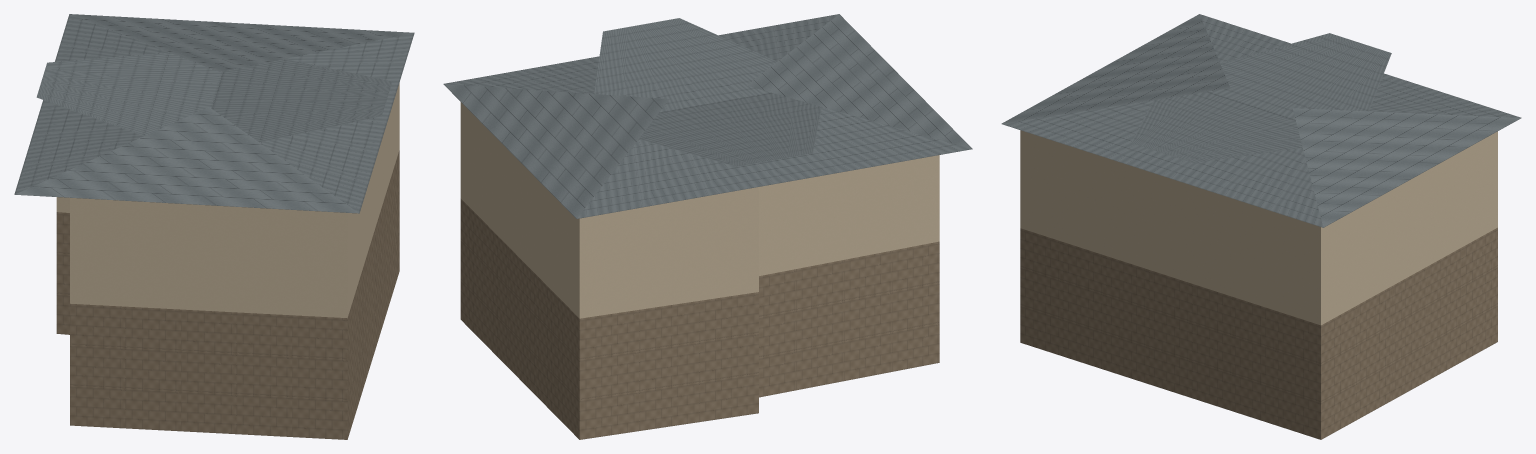
File: bld_c11_10_503.gltf
3 renders of one model, left to right at view 1: azimuth 30°, elevation 25°; view 2: azimuth 150°, elevation 25°; view 3: azimuth 270°, elevation 25°, orthographic. The views are drawn at different scales.
Parts seen in each view (by area): view 1: bld_c11_10_503; view 2: bld_c11_10_503; view 3: bld_c11_10_503.
Boxes of the visible parts, x1,y1,x2,y2 form: bld_c11_10_503: (14, 14, 414, 439); bld_c11_10_503: (443, 14, 972, 439); bld_c11_10_503: (1001, 14, 1521, 439).
Bounding box in the file's own units: 20.06 × 10.6 × 20.65.
3 materials, 3 textured.
